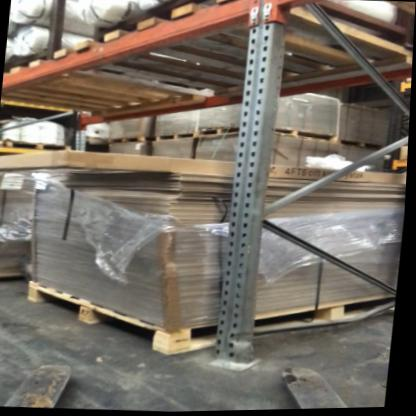vertical_damage: (217, 315, 273, 371)
